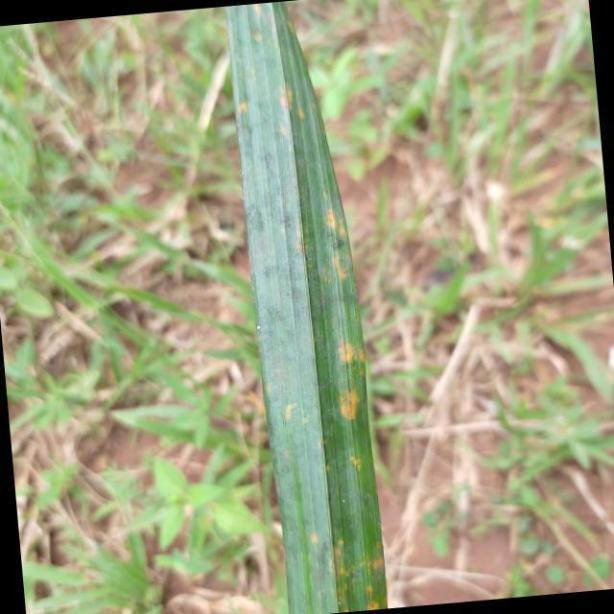Kalium: (218, 0, 390, 614)
